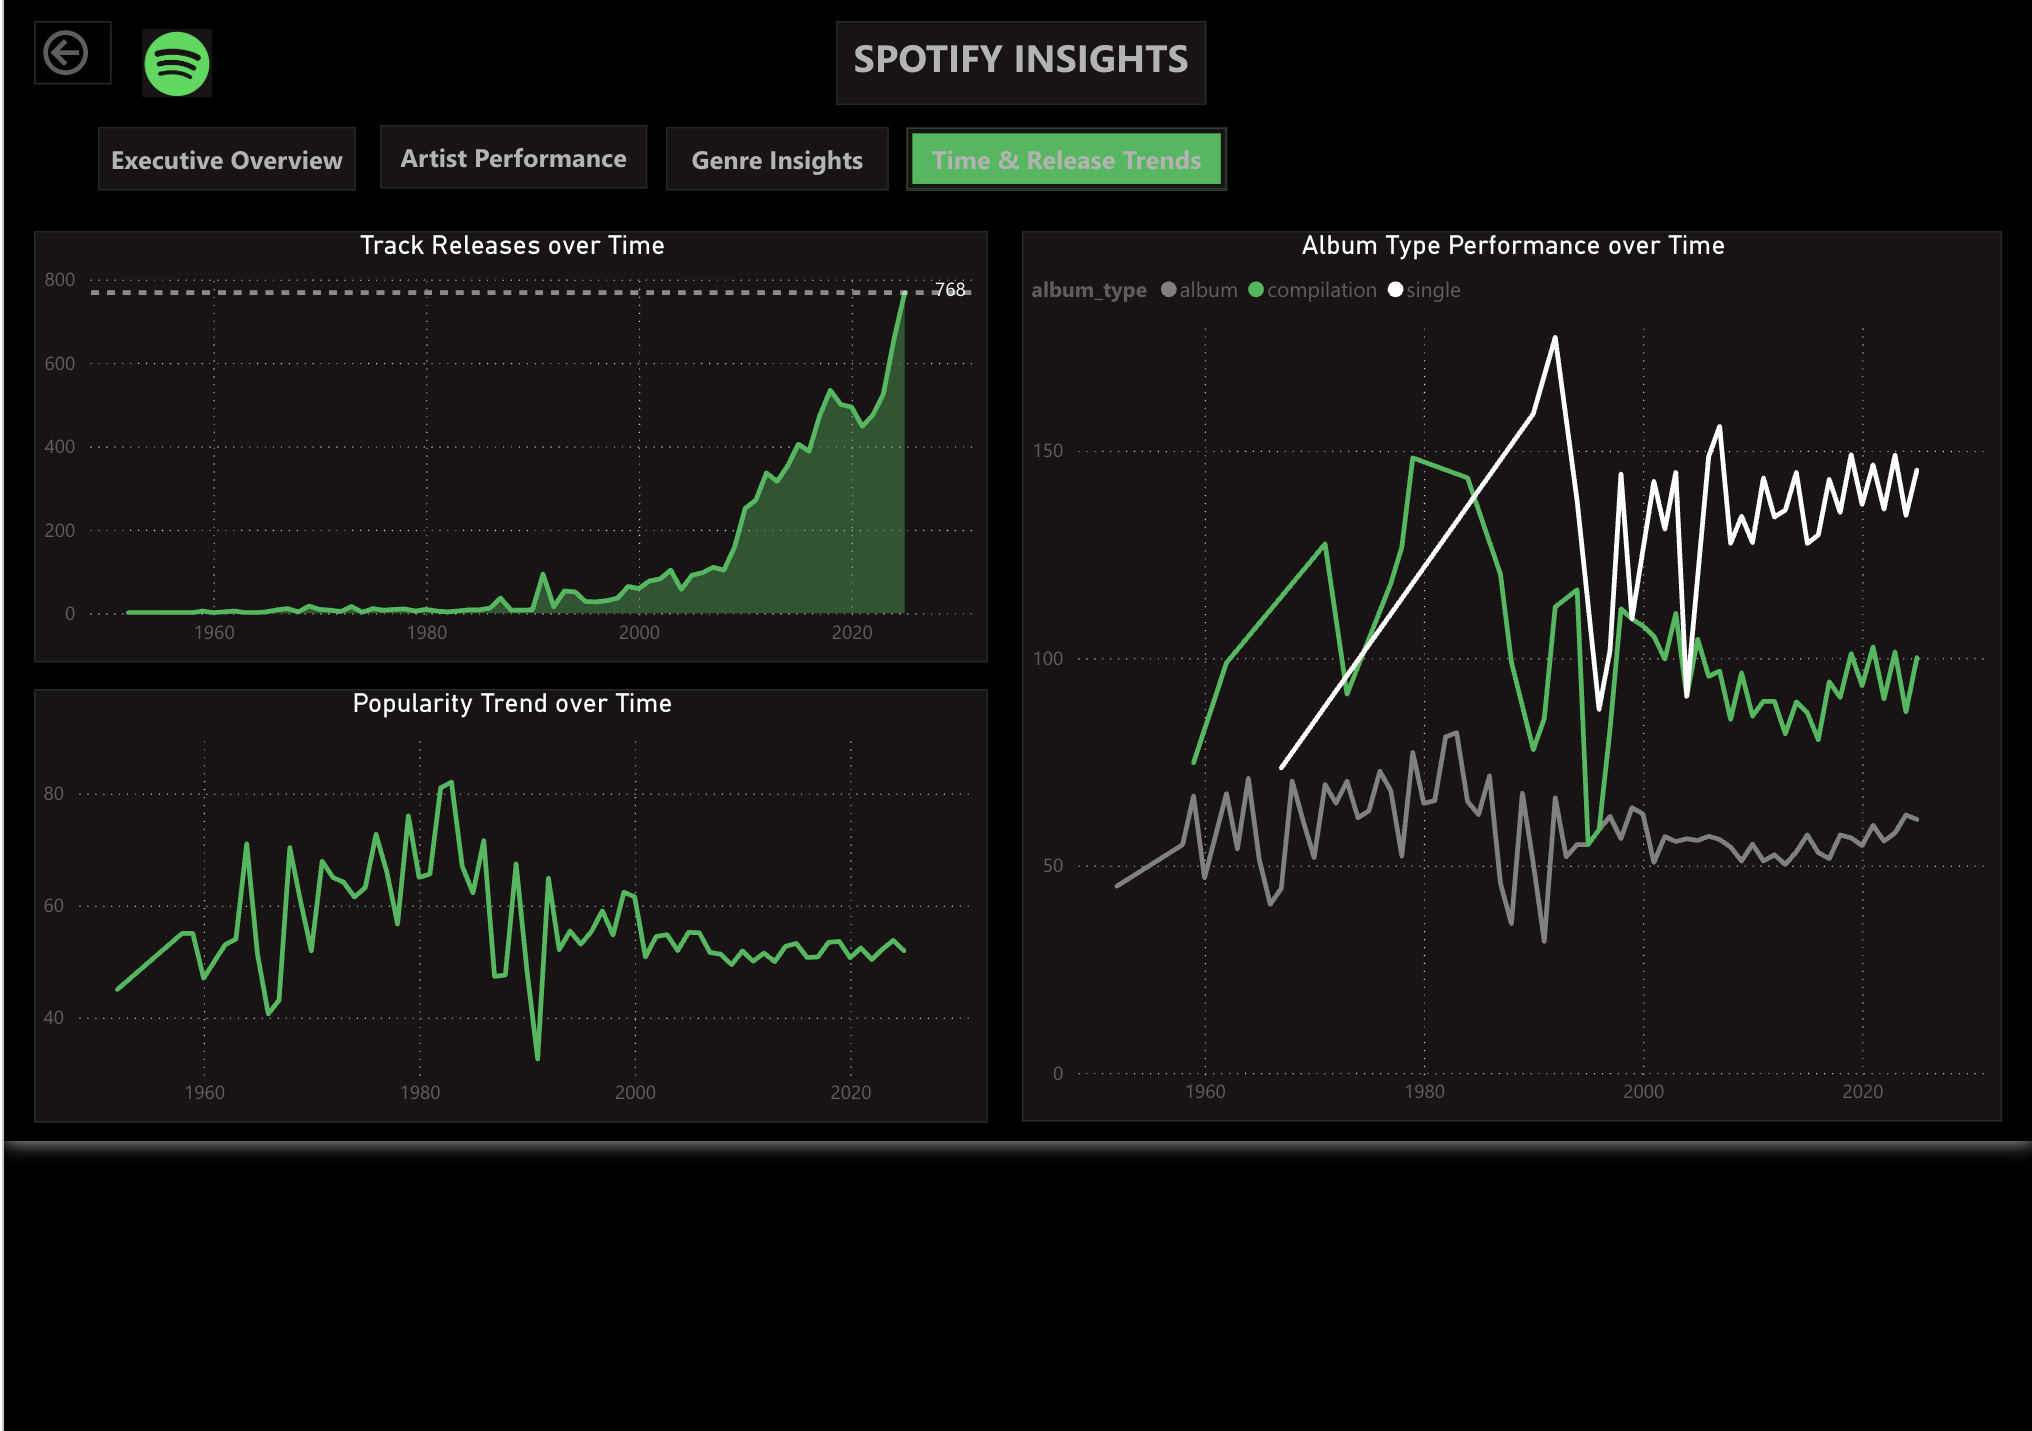

The page's visual inventory and layout, read from the dashboard file:
{"tool":"powerbi","page":{"name":"Time & Release Trends","canvas":[1280,720],"ordinal":3},"visuals":[{"type":"areaChart","title":"Track Releases over Time","fields":{"Y":["_Measures.Total Tracks"],"Category":["dim_date.Year"]},"box":[19.2,146.3,601.6,272],"z":0},{"type":"lineChart","title":"Popularity Trend over Time","fields":{"Category":["dim_date.Year"],"Y":["_Measures.Avg Track Popularity"]},"box":[19.2,434.5,601.6,273.4],"z":1000},{"type":"stackedAreaChart","title":"Album Type Performance over Time","fields":{"Category":["dim_date.Year"],"Y":["_Measures.Avg Track Popularity"],"Series":["dim_album.album_type"]},"box":[641.5,146.3,617.8,561.7],"z":2000},{"type":"actionButton","box":[19.2,13.3,48.8,39.9],"z":3000},{"type":"actionButton","box":[236.5,79.8,168.5,39.9],"z":4000},{"type":"actionButton","box":[416.8,81.3,140.4,39.9],"z":5000},{"type":"actionButton","box":[569.1,81.3,202.5,39.9],"z":6000},{"type":"actionButton","box":[59.1,81.3,162.6,39.9],"z":7000},{"type":"textbox","box":[524.7,13.3,233.5,53.2],"z":8000},{"type":"image","box":[78.3,13.3,62.1,53.2],"z":9000}]}

Visuals, with their boxes on the page's 1280x720 design canvas (x1, y1, x2, y2). These are canvas units, not pixel positions in the 2032x1431 screenshot, which may show the page scaled, cropped or inside an application window:
"Track Releases over Time" areaChart: [19, 146, 621, 418]
"Popularity Trend over Time" lineChart: [19, 434, 621, 708]
"Album Type Performance over Time" stackedAreaChart: [642, 146, 1259, 708]
actionButton: [19, 13, 68, 53]
actionButton: [236, 80, 405, 120]
actionButton: [417, 81, 557, 121]
actionButton: [569, 81, 772, 121]
actionButton: [59, 81, 222, 121]
textbox: [525, 13, 758, 66]
image: [78, 13, 140, 66]
